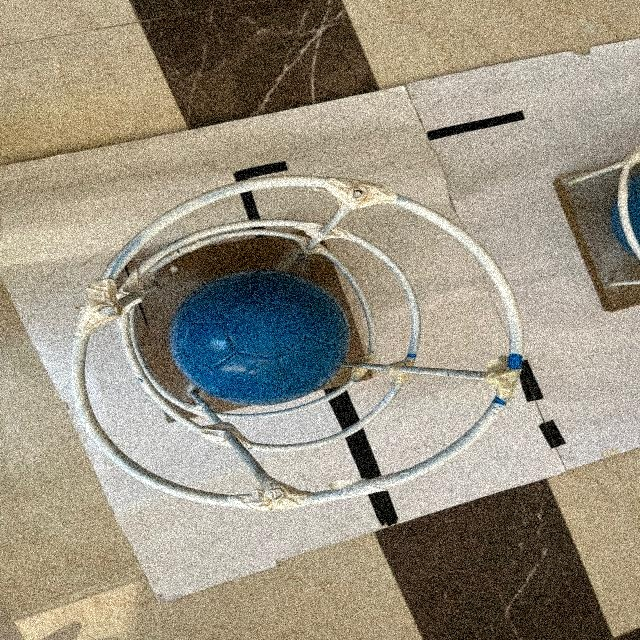blue_ball: (173, 273, 350, 405)
silo: (76, 178, 521, 513), (565, 141, 640, 309)
